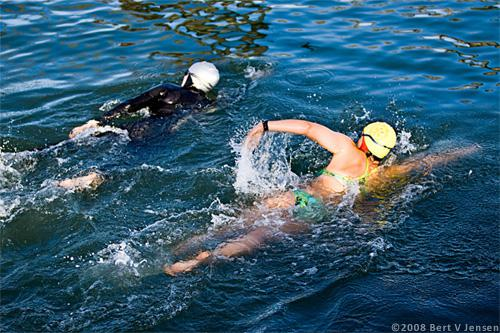human: (163, 112, 478, 276), (61, 58, 221, 195)
